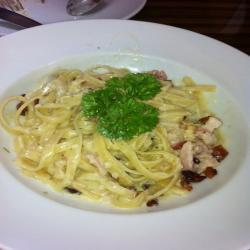carbonara: (8, 59, 233, 221)
